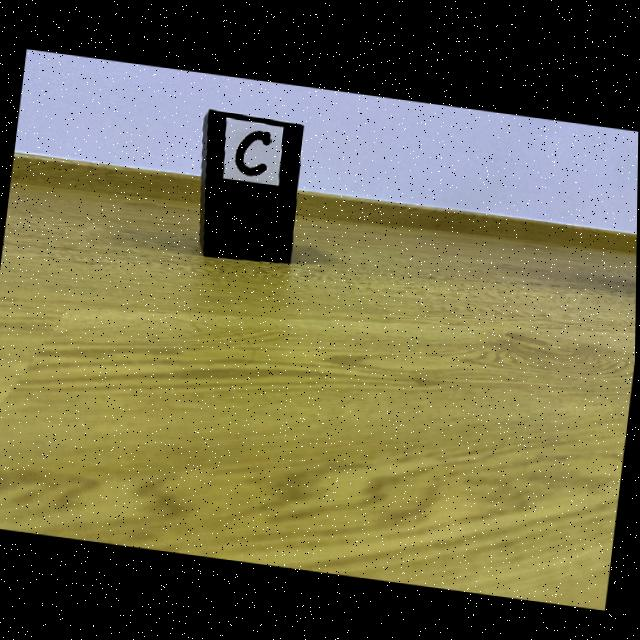C: (235, 129, 271, 174)
